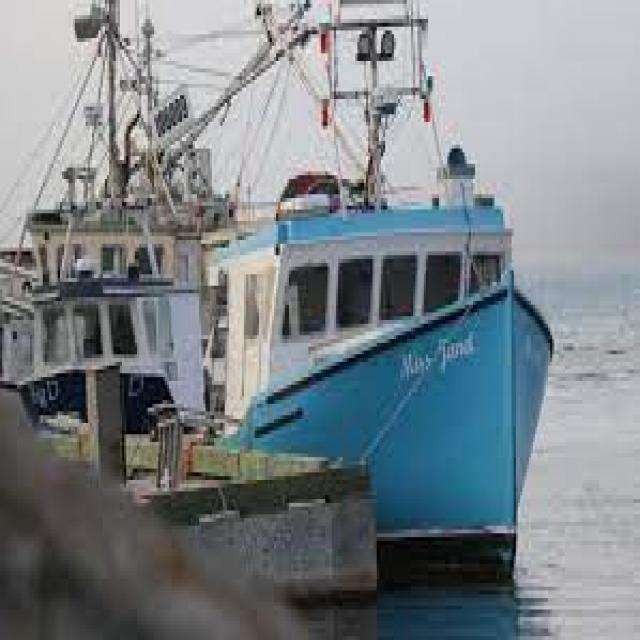Ship: (192, 1, 575, 580)
